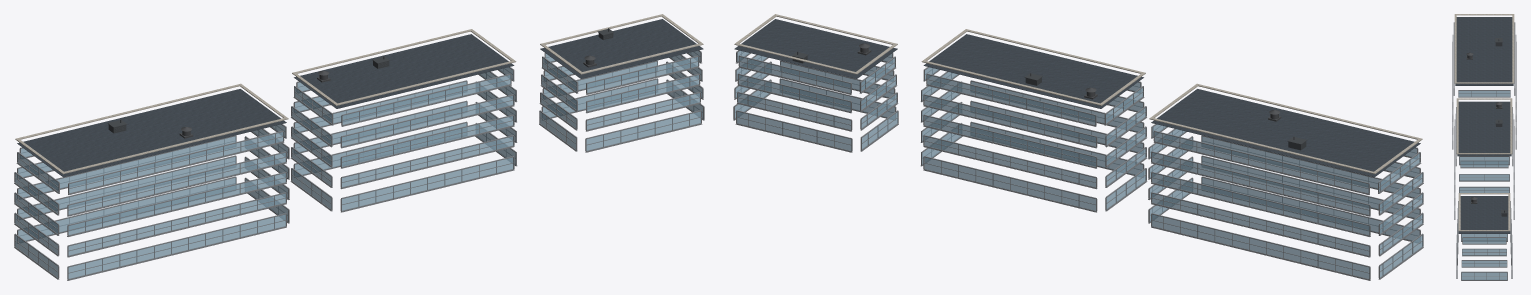
Rendered from ov-windows-roofs.glb.
The picture shows the model from 3 angles, left to right: view 1: azimuth 30°, elevation 25°; view 2: azimuth 150°, elevation 25°; view 3: azimuth 270°, elevation 25°; orthographic projection. The views are drawn at different scales.
Parts seen in each view (by area): view 1: ovw_roofdeck_A, ovw_roofdeck_B, ovw_roofdeck_C, ovw_glass_A_F1_S, ovw_glass_A_F2_S, ovw_glass_A_F4_S, ovw_glass_A_F3_S, ovw_glass_B_F1_S, ovw_glass_A_F5_S, ovw_glass_B_F2_S, ovw_glass_B_F3_S, ovw_glass_B_F4_S (+38 smaller); view 2: ovw_roofdeck_A, ovw_roofdeck_B, ovw_roofdeck_C, ovw_glass_A_F1_N, ovw_glass_A_F2_N, ovw_glass_A_F4_N, ovw_glass_A_F3_N, ovw_glass_B_F1_N, ovw_glass_A_F5_N, ovw_glass_B_F2_N, ovw_glass_B_F3_N, ovw_glass_B_F4_N (+39 smaller); view 3: ovw_roofdeck_A, ovw_roofdeck_B, ovw_roofdeck_C, ovw_coping_A_NS, ovw_glass_C_F1_E, ovw_glass_B_F4_E, ovw_coping_B_NS, ovw_glass_A_F5_E, ovw_glass_C_F3_E, ovw_glass_B_F3_E, ovw_glass_B_F5_E, ovw_glass_C_F2_E (+31 smaller).
Boxes of the visible parts, box(x1,y1,x2,y2) form: ovw_roofdeck_A: box(17, 89, 286, 177); ovw_roofdeck_B: box(294, 34, 514, 108); ovw_roofdeck_C: box(540, 19, 703, 78); ovw_glass_A_F1_S: box(68, 214, 285, 278); ovw_glass_A_F2_S: box(68, 193, 285, 255); ovw_glass_A_F4_S: box(68, 152, 285, 214); ovw_glass_A_F3_S: box(68, 173, 285, 234); ovw_glass_B_F1_S: box(342, 157, 513, 210); ovw_glass_A_F5_S: box(69, 132, 283, 193); ovw_glass_B_F2_S: box(342, 136, 513, 187); ovw_glass_B_F3_S: box(342, 116, 513, 166); ovw_glass_B_F4_S: box(342, 95, 513, 146); ovw_roofdeck_A: box(1151, 89, 1420, 177); ovw_roofdeck_B: box(923, 34, 1143, 108); ovw_roofdeck_C: box(734, 19, 897, 78); ovw_glass_A_F1_N: box(1152, 214, 1369, 278); ovw_glass_A_F2_N: box(1152, 193, 1369, 255); ovw_glass_A_F4_N: box(1152, 152, 1369, 214); ovw_glass_A_F3_N: box(1152, 173, 1369, 234); ovw_glass_B_F1_N: box(924, 157, 1095, 210); ovw_glass_A_F5_N: box(1154, 132, 1368, 193); ovw_glass_B_F2_N: box(924, 136, 1095, 187); ovw_glass_B_F3_N: box(924, 116, 1095, 166); ovw_glass_B_F4_N: box(924, 95, 1095, 146); ovw_roofdeck_A: box(1455, 17, 1513, 85); ovw_roofdeck_B: box(1457, 101, 1511, 156); ovw_roofdeck_C: box(1458, 196, 1510, 233); ovw_coping_A_NS: box(1454, 14, 1514, 83); ovw_glass_C_F1_E: box(1461, 272, 1507, 279); ovw_glass_B_F4_E: box(1459, 174, 1509, 180); ovw_coping_B_NS: box(1456, 98, 1512, 154); ovw_glass_A_F5_E: box(1458, 91, 1510, 96); ovw_glass_C_F3_E: box(1462, 249, 1506, 255); ovw_glass_B_F3_E: box(1459, 187, 1509, 192); ovw_glass_B_F5_E: box(1460, 161, 1508, 166); ovw_glass_C_F2_E: box(1462, 261, 1506, 266).
Size of the model in its own units: 113 by 18.93 by 15.48.
Materials: 7 (6 with a texture image).
